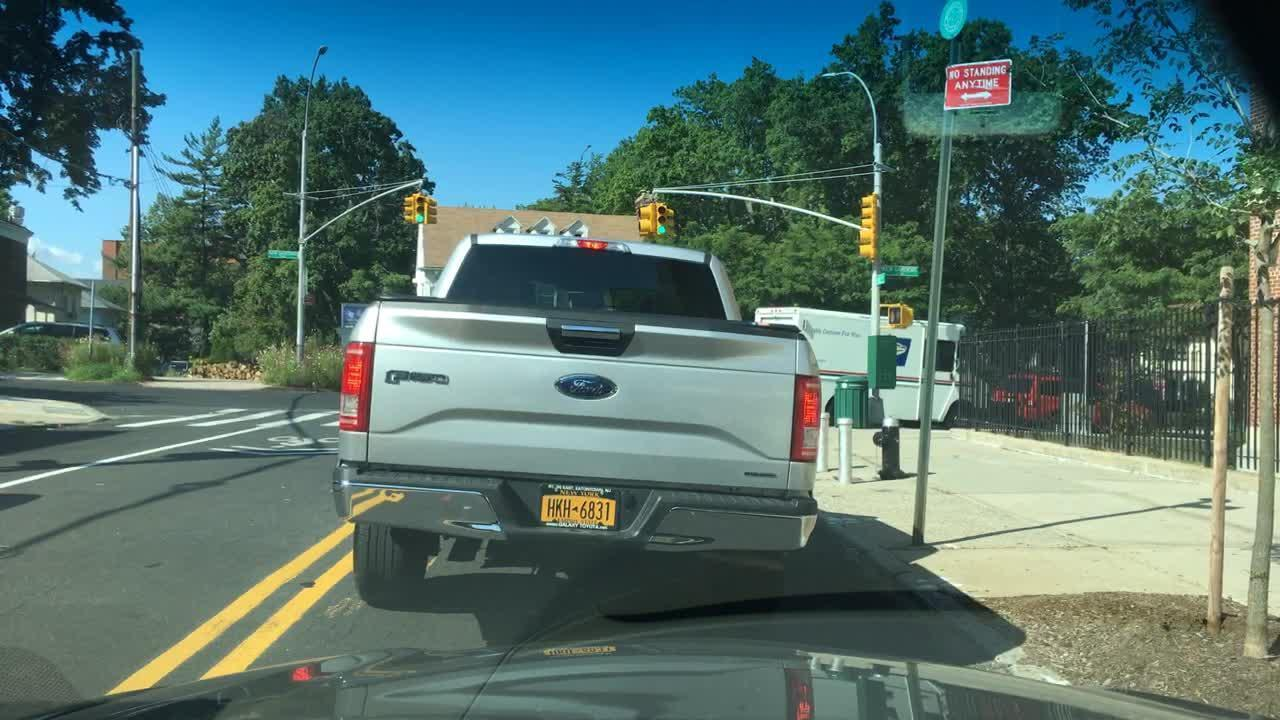ford: (552, 372, 621, 400)
